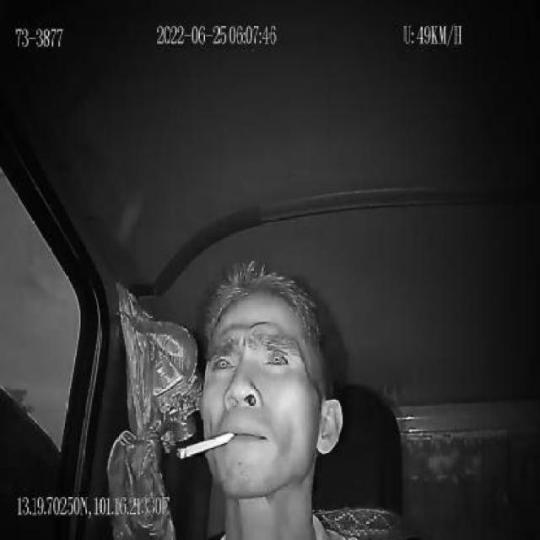smoking: (176, 430, 237, 460)
